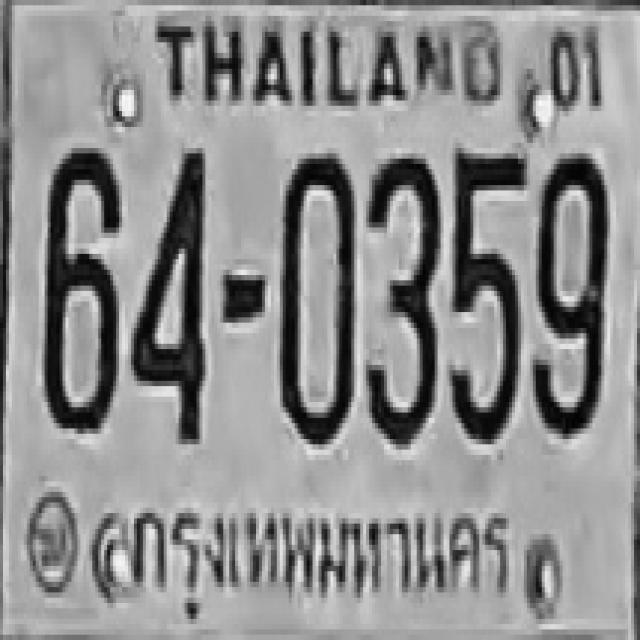0: (278, 148, 353, 439)
3: (365, 150, 439, 442)
4: (129, 143, 204, 439)
5: (448, 146, 525, 442)
6: (42, 143, 119, 428)
9: (533, 148, 607, 434)
Bangkok: (120, 476, 520, 625)
